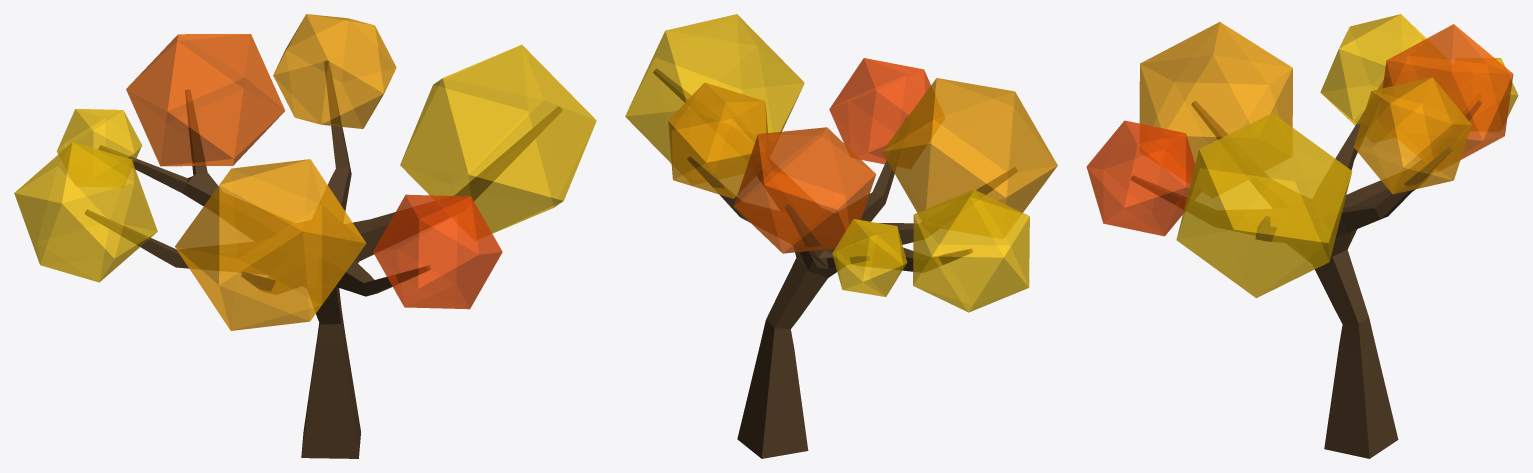
Rendered from tree2.glb.
3 views of the same model, side by side, from view 1: azimuth 30°, elevation 25°; view 2: azimuth 150°, elevation 25°; view 3: azimuth 270°, elevation 25° (orthographic). The views are drawn at different scales.
Parts seen in each view (by area): view 1: Icosphere.006, Icosphere.001, Cube, Icosphere.004, Icosphere.002, Icosphere, Icosphere.005, Icosphere.003; view 2: Icosphere.001, Cube, Icosphere.004, Icosphere.006, Icosphere.002, Icosphere.005, Icosphere, Icosphere.003; view 3: Icosphere.006, Cube, Icosphere.001, Icosphere.005, Icosphere, Icosphere.004, Icosphere.002.
Boxes of the visible parts, bbox=[...] form: Icosphere.006: bbox=[400, 44, 596, 233]; Icosphere.001: bbox=[175, 159, 366, 330]; Cube: bbox=[85, 60, 562, 458]; Icosphere.004: bbox=[126, 34, 285, 166]; Icosphere.002: bbox=[14, 142, 157, 282]; Icosphere: bbox=[373, 194, 502, 309]; Icosphere.005: bbox=[273, 14, 396, 128]; Icosphere.003: bbox=[56, 109, 142, 163]; Icosphere.001: bbox=[882, 78, 1057, 212]; Cube: bbox=[653, 69, 1017, 458]; Icosphere.004: bbox=[733, 127, 876, 253]; Icosphere.006: bbox=[625, 14, 804, 163]; Icosphere.002: bbox=[913, 189, 1029, 312]; Icosphere.005: bbox=[668, 82, 767, 198]; Icosphere: bbox=[829, 58, 930, 164]; Icosphere.003: bbox=[832, 219, 907, 296]; Icosphere.006: bbox=[1176, 113, 1352, 298]; Cube: bbox=[1131, 80, 1482, 458]; Icosphere.001: bbox=[1139, 22, 1292, 163]; Icosphere.005: bbox=[1353, 77, 1471, 194]; Icosphere: bbox=[1086, 120, 1195, 236]; Icosphere.004: bbox=[1382, 24, 1513, 159]; Icosphere.002: bbox=[1320, 14, 1426, 125].
Size of the model in its own units: 9.76 by 7.74 by 8.09.
